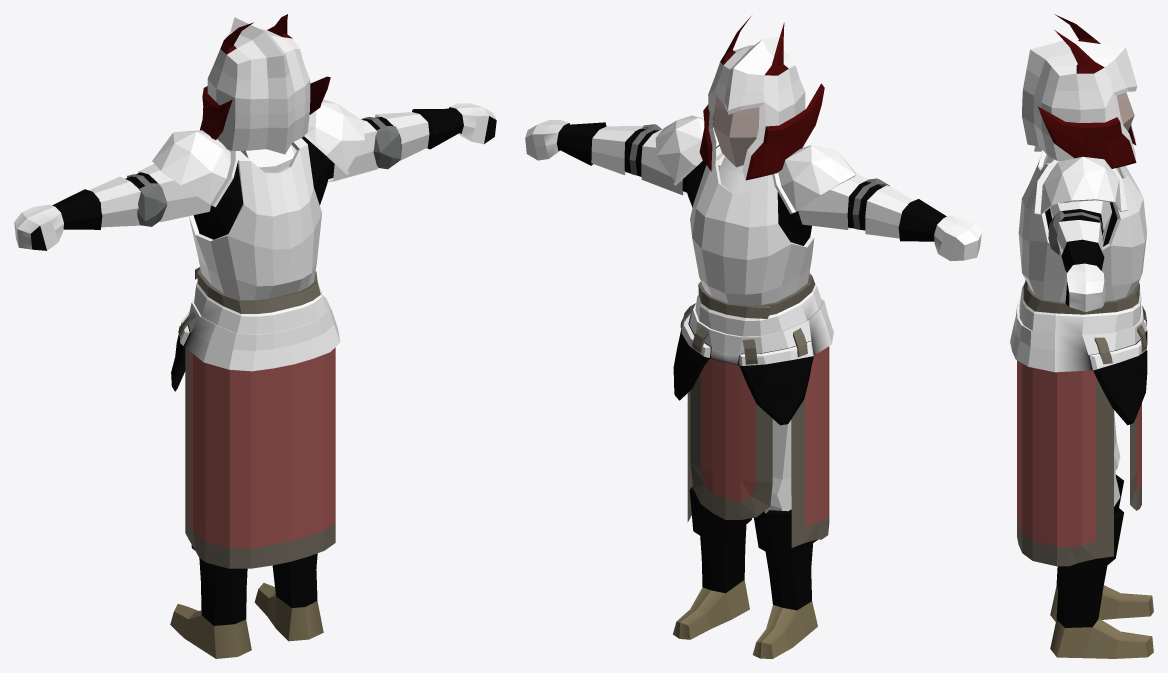
The model's file is SoldierMixamoTest2.fbx.
3 renders of one model, left to right at view 1: azimuth 30°, elevation 25°; view 2: azimuth 150°, elevation 25°; view 3: azimuth 270°, elevation 25°, orthographic. The views are drawn at different scales.
Visible parts, largest first — view 1: Skirt, polySurface1, pCube11, polySurface5, Pauldron1, Man1, polySurface7, polySurface6, pPlatonic1, Man10, polySurface2; view 2: polySurface1, Skirt, polySurface5, pCube11, polySurface2, Pauldron1, Man1, polySurface7, polySurface6, Man10, polySurface3, pPlatonic1; view 3: Skirt, polySurface1, pCube11, polySurface5, Pauldron1, polySurface2, Man1, polySurface7, polySurface6, pPlatonic1, Man10, polySurface3.
Boxes of the visible parts, left/top/right/bottom form: Skirt: left=185, top=347, right=335, bottom=568; polySurface1: left=99, top=113, right=431, bottom=371; pCube11: left=200, top=14, right=330, bottom=154; polySurface5: left=170, top=545, right=323, bottom=658; Pauldron1: left=152, top=99, right=364, bottom=207; Man1: left=14, top=103, right=496, bottom=250; polySurface7: left=89, top=112, right=429, bottom=227; polySurface6: left=138, top=120, right=378, bottom=222; pPlatonic1: left=127, top=117, right=401, bottom=226; Man10: left=241, top=144, right=296, bottom=172; polySurface2: left=171, top=311, right=195, bottom=391; polySurface1: left=590, top=128, right=882, bottom=365; Skirt: left=687, top=346, right=829, bottom=547; polySurface5: left=673, top=487, right=817, bottom=658; pCube11: left=699, top=16, right=824, bottom=180; polySurface2: left=673, top=303, right=813, bottom=425; Pauldron1: left=655, top=115, right=856, bottom=213; Man1: left=525, top=120, right=981, bottom=261; polySurface7: left=591, top=126, right=914, bottom=238; polySurface6: left=641, top=129, right=868, bottom=229; Man10: left=713, top=97, right=763, bottom=193; polySurface3: left=764, top=419, right=791, bottom=513; pPlatonic1: left=629, top=124, right=889, bottom=229; Skirt: left=1017, top=361, right=1141, bottom=566; polySurface1: left=1010, top=151, right=1146, bottom=372; pCube11: left=1022, top=14, right=1137, bottom=168; polySurface5: left=1050, top=474, right=1153, bottom=658; Pauldron1: left=1034, top=146, right=1127, bottom=214; polySurface2: left=1089, top=306, right=1147, bottom=425; Man1: left=1061, top=239, right=1105, bottom=312; polySurface7: left=1056, top=220, right=1102, bottom=254; polySurface6: left=1050, top=200, right=1111, bottom=246; pPlatonic1: left=1048, top=211, right=1104, bottom=254; Man10: left=1046, top=92, right=1134, bottom=163; polySurface3: left=1114, top=410, right=1120, bottom=506.
Bounding box in the file's own units: 3.66 × 4.62 × 0.9858.
